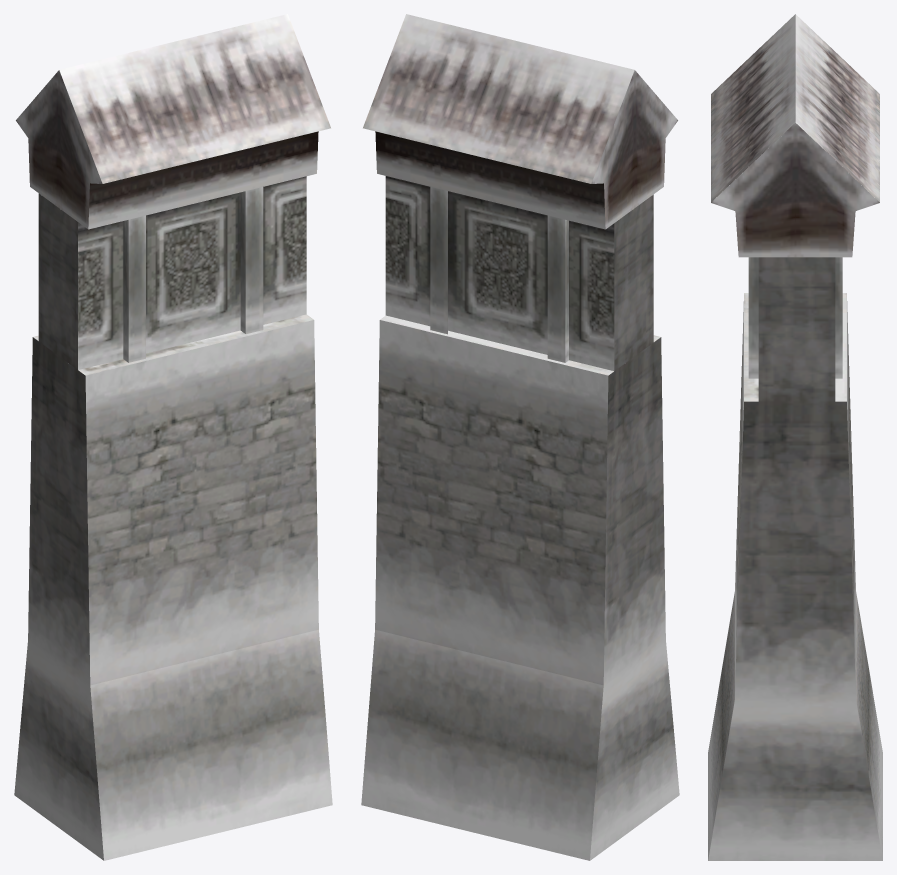
File: snow-middledam-04_lod_01.glb
3 renders of one model, left to right at view 1: azimuth 30°, elevation 25°; view 2: azimuth 150°, elevation 25°; view 3: azimuth 270°, elevation 25°, orthographic. The views are drawn at different scales.
Visible parts, largest first — view 1: snow-middledam-02; view 2: snow-middledam-02; view 3: snow-middledam-02.
Boxes of the visible parts, <box> form: snow-middledam-02: <box>14,14,332,860</box>; snow-middledam-02: <box>361,14,679,860</box>; snow-middledam-02: <box>708,14,882,860</box>.
Bounding box in the file's own units: 2.5 × 7.92 × 1.7.
1 material, 1 textured.
